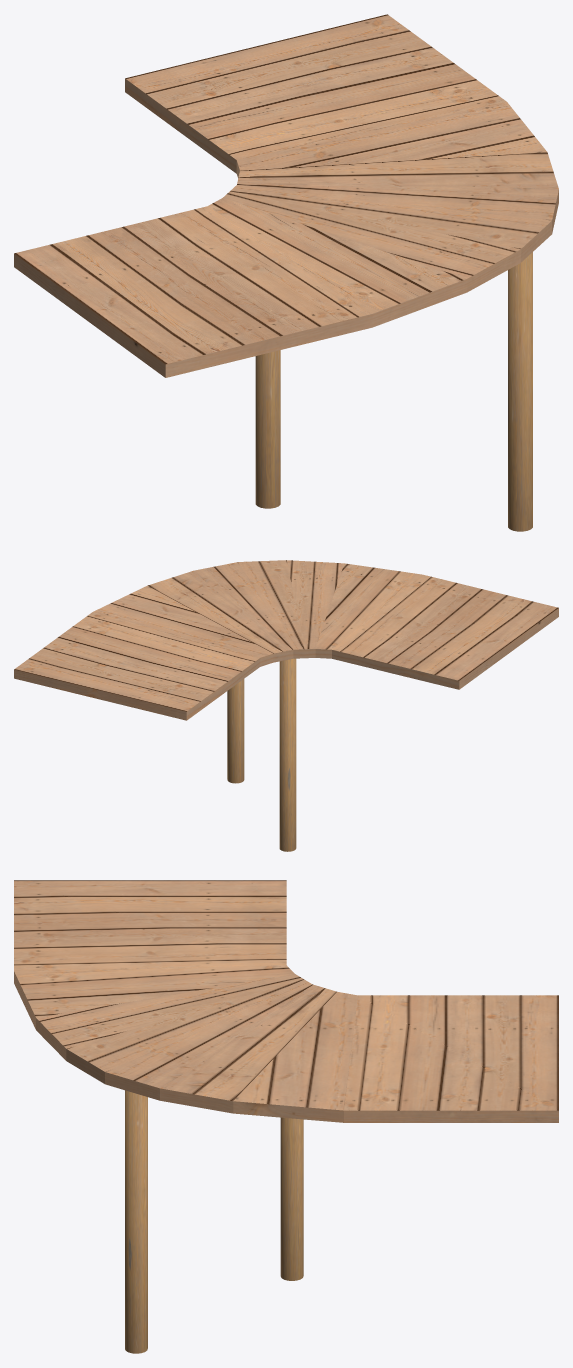
File: WoodRoadCorner3.fbx
The picture shows the model from 3 angles, top to bottom: view 1: azimuth 30°, elevation 25°; view 2: azimuth 150°, elevation 25°; view 3: azimuth 270°, elevation 25°; orthographic projection. The views are drawn at different scales.
Visible parts, largest first — view 1: WoodRoadCorner3; view 2: WoodRoadCorner3; view 3: WoodRoadCorner3.
Boxes of the visible parts, x1,y1,x2,y2 form: WoodRoadCorner3: (14, 14, 558, 531); WoodRoadCorner3: (14, 560, 558, 851); WoodRoadCorner3: (14, 880, 558, 1353).
Bounding box in the file's own units: 400 × 229 × 400.
